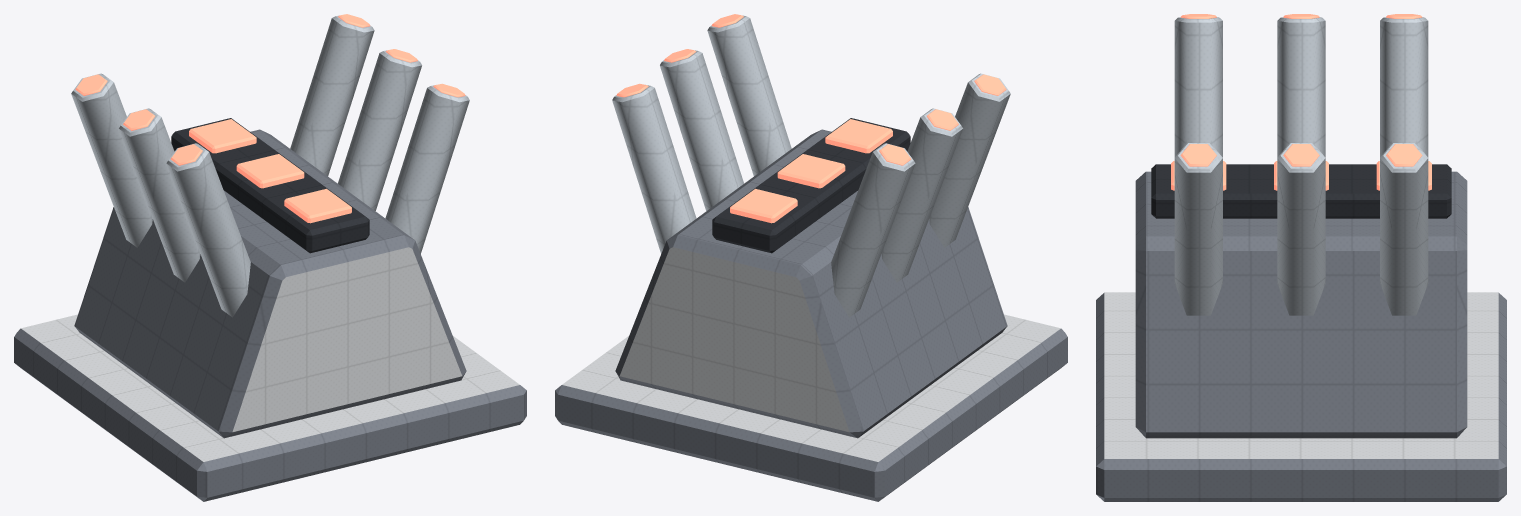
File: R4X_Overdrive_LOD1.glb
The picture shows the model from 3 angles, left to right: view 1: azimuth 30°, elevation 25°; view 2: azimuth 150°, elevation 25°; view 3: azimuth 270°, elevation 25°; orthographic projection. The views are drawn at different scales.
Visible parts, largest first — view 1: R4X_Overdrive_LOD1; view 2: R4X_Overdrive_LOD1; view 3: R4X_Overdrive_LOD1.
Part boxes in pixels (bbox=[...]): R4X_Overdrive_LOD1: bbox=[14, 14, 526, 501]; R4X_Overdrive_LOD1: bbox=[555, 14, 1067, 501]; R4X_Overdrive_LOD1: bbox=[1096, 14, 1506, 501].
Bounding box in the file's own units: 0.52 × 0.4728 × 0.52.
5 materials, 4 textured.
